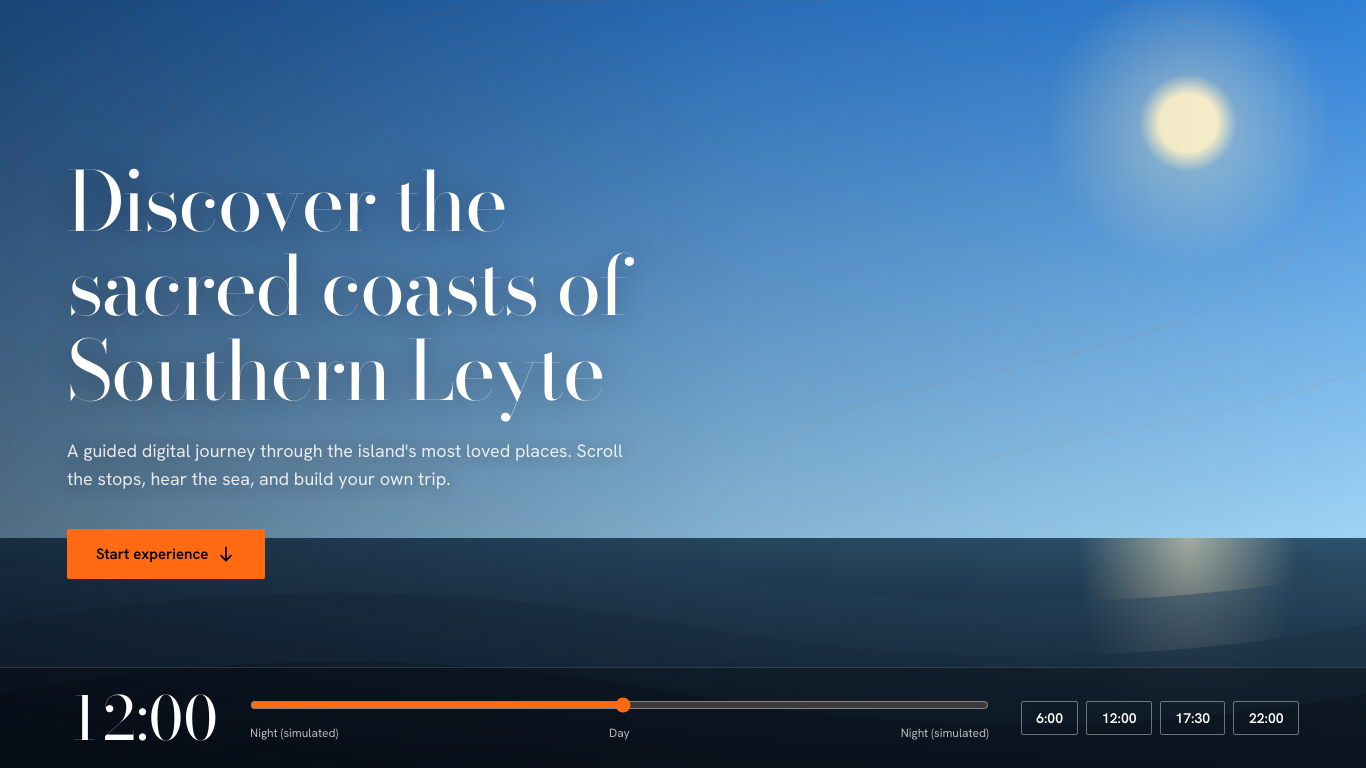
Scenario: HorizonHero › follows the slider: the scene is dark with stars at night
Set the slider to "2": [319, 705] box top-left (250, 697), bottom-right (989, 713)
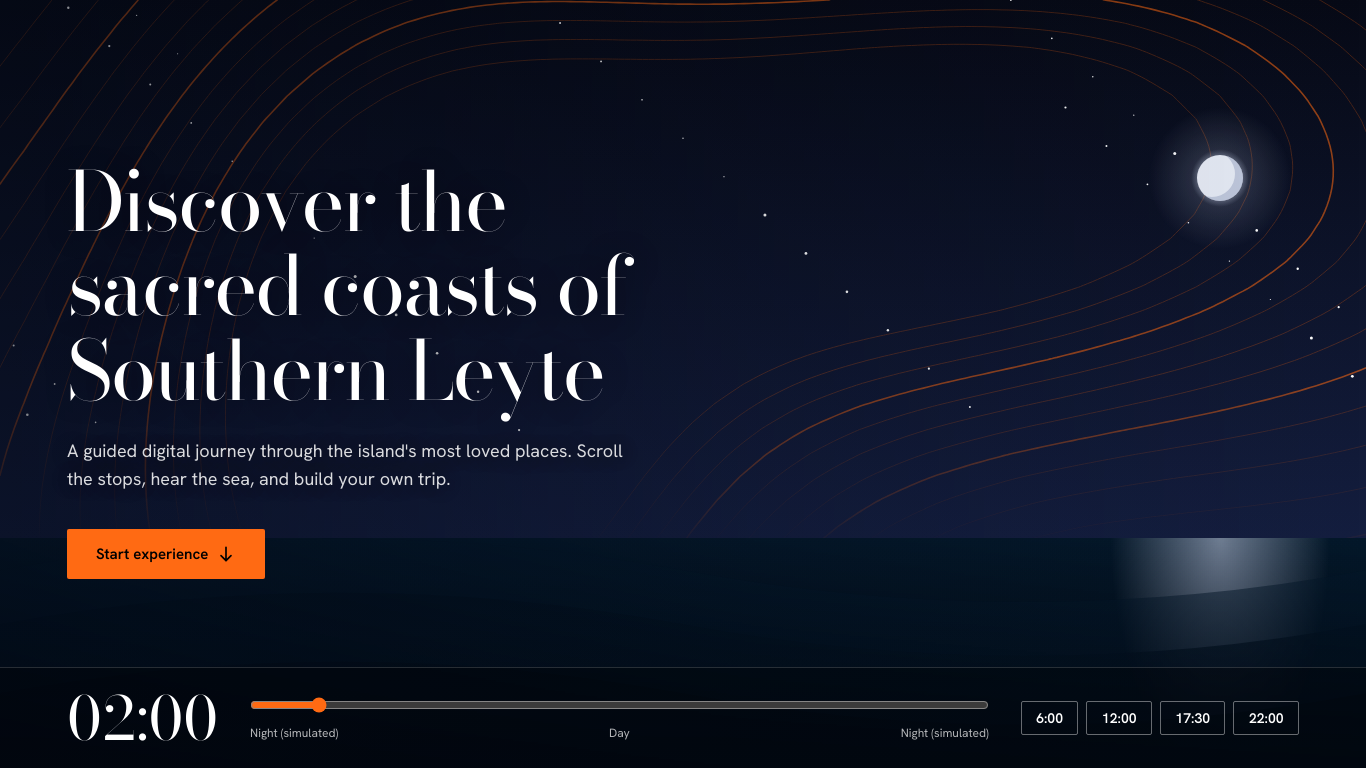
Expected: the slider has attribute aria-valuetext="02:00", top-left (250, 697), bottom-right (989, 713)
